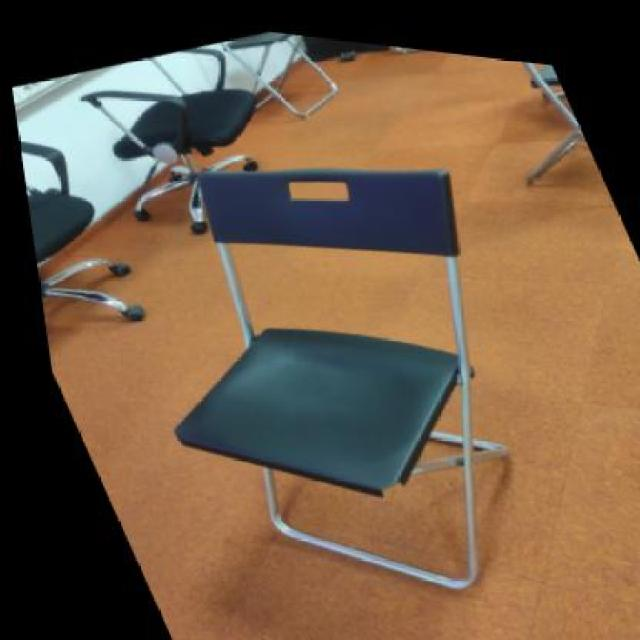chair: (43, 66, 634, 639), (11, 95, 160, 383), (191, 18, 363, 142)
